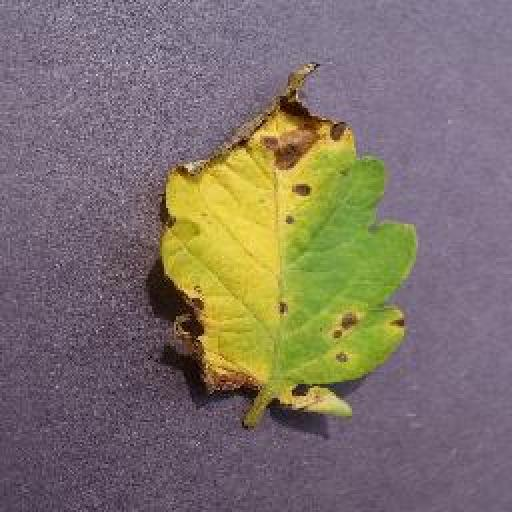disease_tomato: (151, 62, 422, 418)
